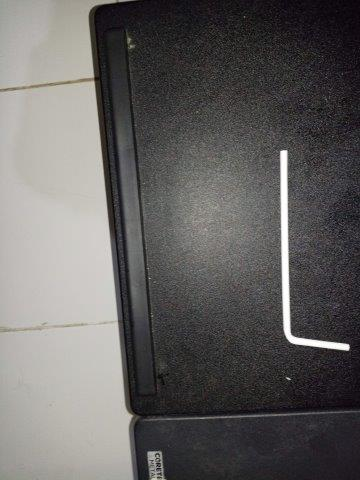sedotan: (279, 149, 350, 351)
